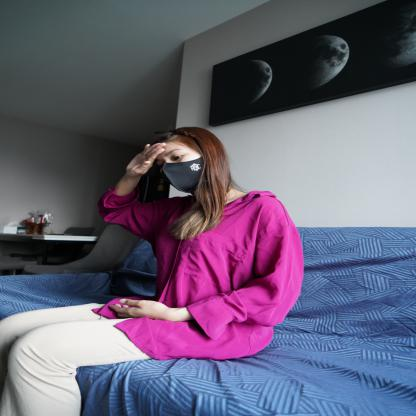Sick: (108, 136, 184, 180)
